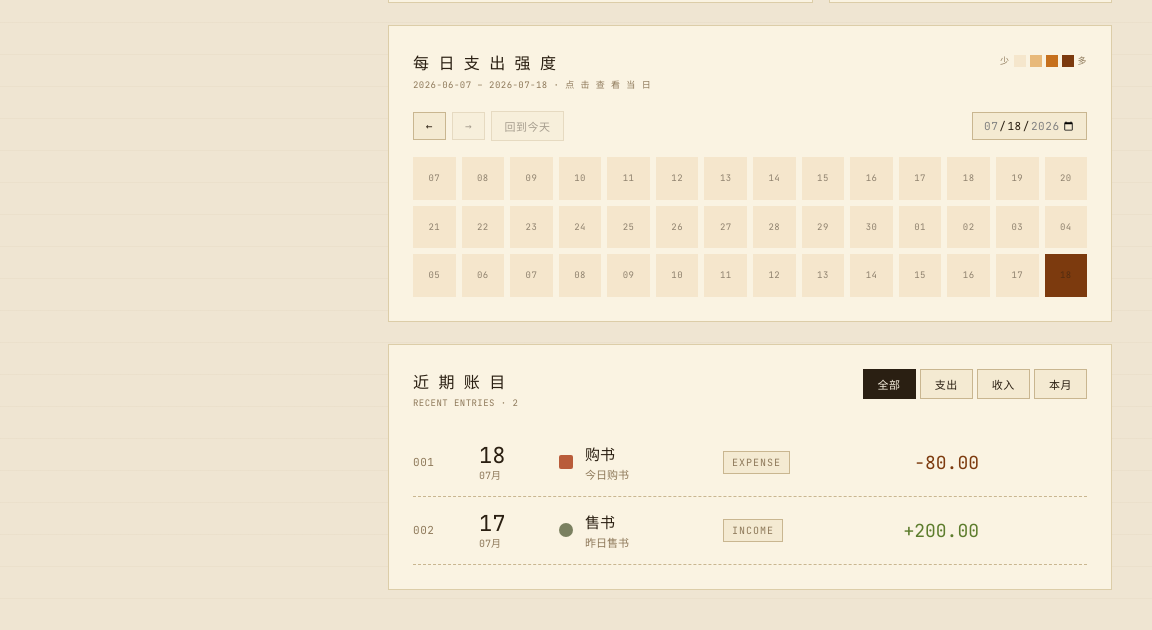
Test: LedgerFeature › 筛选与热力单日视图都从集中查询结果切换账目
(page scrolled)
Click the button "支出".
click(946, 384)  # box 920,369 -> 973,399
(page scrolled)
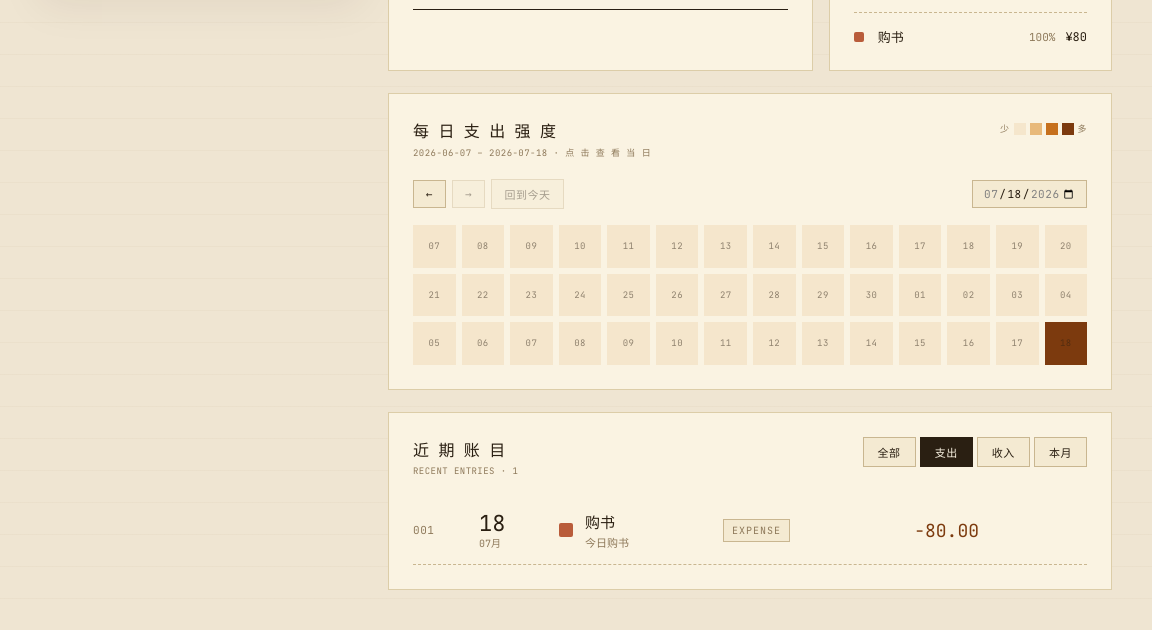
Expected: the text "今日购书" is shown, 585,534 -> 629,550
Expected: the text "昨日售书" is gone
Click the 2nd button titled "2026-07-18 · ¥80".
click(1066, 344)  # box 1044,322 -> 1087,365
(page scrolled)
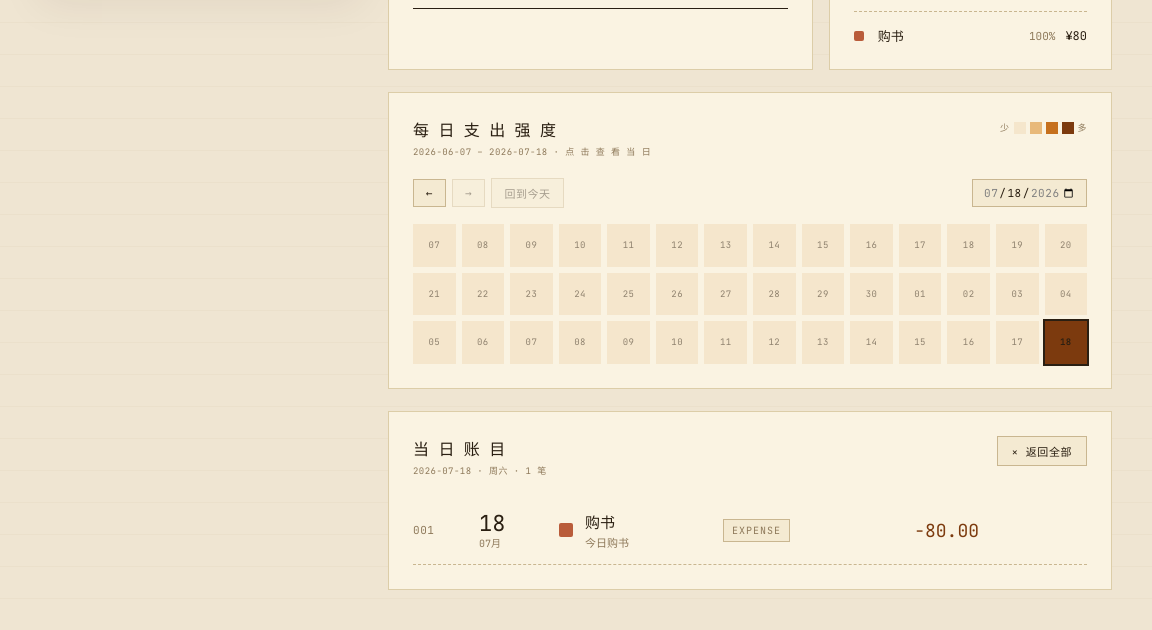
Expected: the text "今日购书" is shown, 585,534 -> 629,550
Expected: the heading "当 日 账 目" is shown, 413,436 -> 508,460
Click the button "× 返回全部".
click(1042, 451)  # box 996,436 -> 1087,466
(page scrolled)
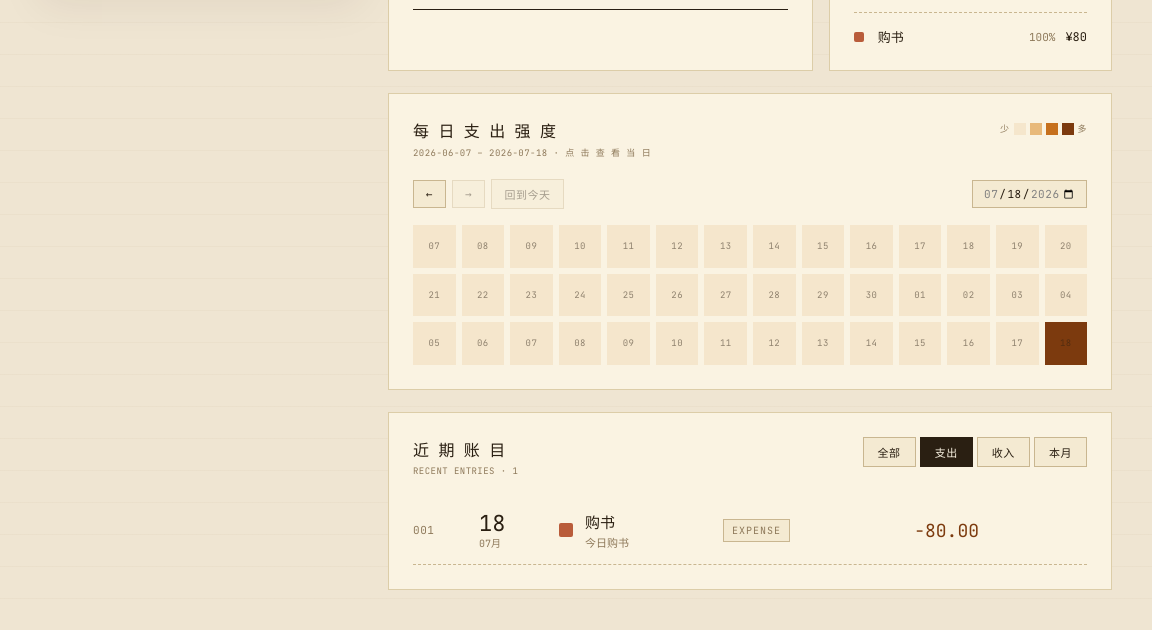
Expected: the text "今日购书" is shown, 585,534 -> 629,550
Expected: the heading "近 期 账 目" is shown, 413,437 -> 518,461
